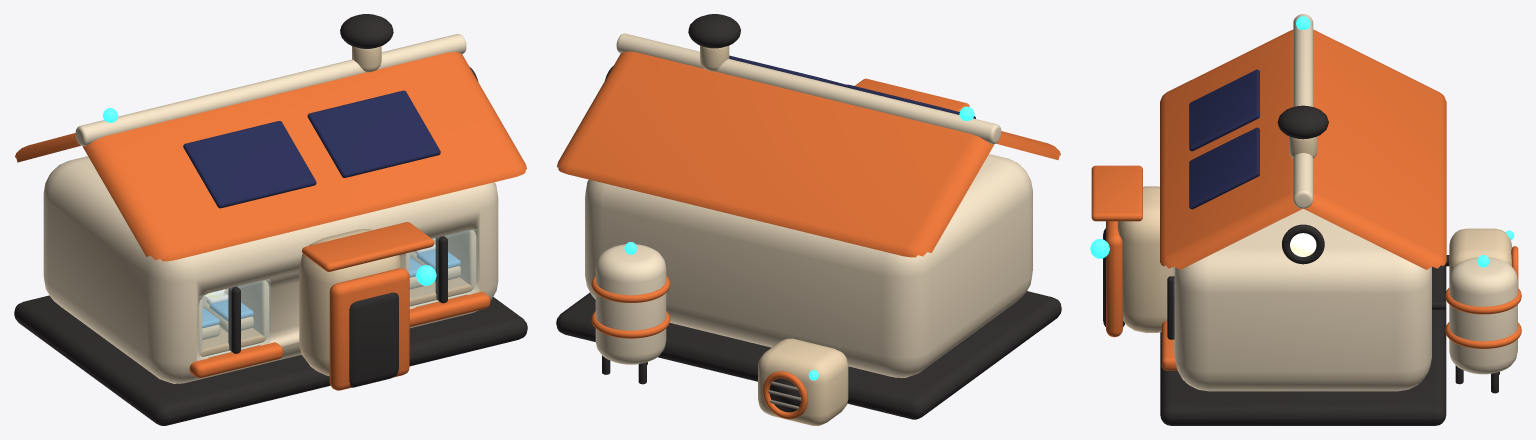
Rendered from home-b-1.glb.
3 views of the same model, side by side, from view 1: azimuth 30°, elevation 25°; view 2: azimuth 150°, elevation 25°; view 3: azimuth 270°, elevation 25° (orthographic). The views are drawn at different scales.
Visible parts, largest first — view 1: Cube.032, Cube.001, Cube, Cube.033, Cube.034, Cylinder, Cube.029, Cube.028, Cube.030, Cube.012, Cube.031, Cube.025 (+10 smaller); view 2: Cube.032, Cube.001, Cube, Cylinder.007, Cylinder, Cube.035, Sphere.003, Cube.031, Torus.001, Torus.002, Torus.003, Cylinder.003 (+1 smaller); view 3: Cube.032, Cube.001, Cube, Cylinder.007, Cube.028, Cube.033, Cube.034, Cube.031, Cylinder, Cube.035, Cube.029, Sphere.003 (+7 smaller).
Boxes of the visible parts, box(x1,y1,x2,y2) form: Cube.032: box(15, 52, 526, 261); Cube.001: box(43, 156, 498, 383); Cube: box(14, 295, 527, 425); Cube.033: box(183, 121, 316, 208); Cube.034: box(307, 90, 440, 177); Cylinder: box(75, 34, 466, 146); Cube.029: box(329, 268, 409, 390); Cube.028: box(299, 229, 400, 376); Cube.030: box(349, 292, 398, 387); Cube.012: box(198, 279, 270, 359); Cube.031: box(302, 222, 434, 271); Cube.025: box(406, 229, 477, 308); Cube.032: box(557, 51, 1060, 257); Cube.001: box(585, 154, 1032, 377); Cube: box(556, 291, 1061, 419); Cylinder.007: box(595, 244, 666, 364); Cylinder: box(616, 33, 1001, 144); Cube.035: box(758, 338, 848, 425); Sphere.003: box(688, 14, 740, 48); Cube.031: box(855, 78, 969, 111); Torus.001: box(763, 371, 807, 419); Torus.002: box(591, 311, 670, 338); Torus.003: box(591, 276, 670, 302); Cylinder.003: box(769, 378, 800, 412); Cube.032: box(1160, 29, 1446, 269); Cube.001: box(1174, 209, 1431, 391); Cube: box(1160, 266, 1446, 425); Cylinder.007: box(1449, 257, 1517, 374); Cube.028: box(1117, 186, 1174, 332); Cube.033: box(1189, 69, 1259, 151); Cube.034: box(1189, 127, 1259, 209); Cube.031: box(1091, 165, 1142, 221); Cylinder: box(1293, 14, 1313, 208); Cube.035: box(1449, 228, 1511, 278); Cube.029: box(1106, 221, 1122, 337); Sphere.003: box(1277, 105, 1328, 139).
Bounding box in the file's own units: 1.51 × 1.07 × 1.51.
